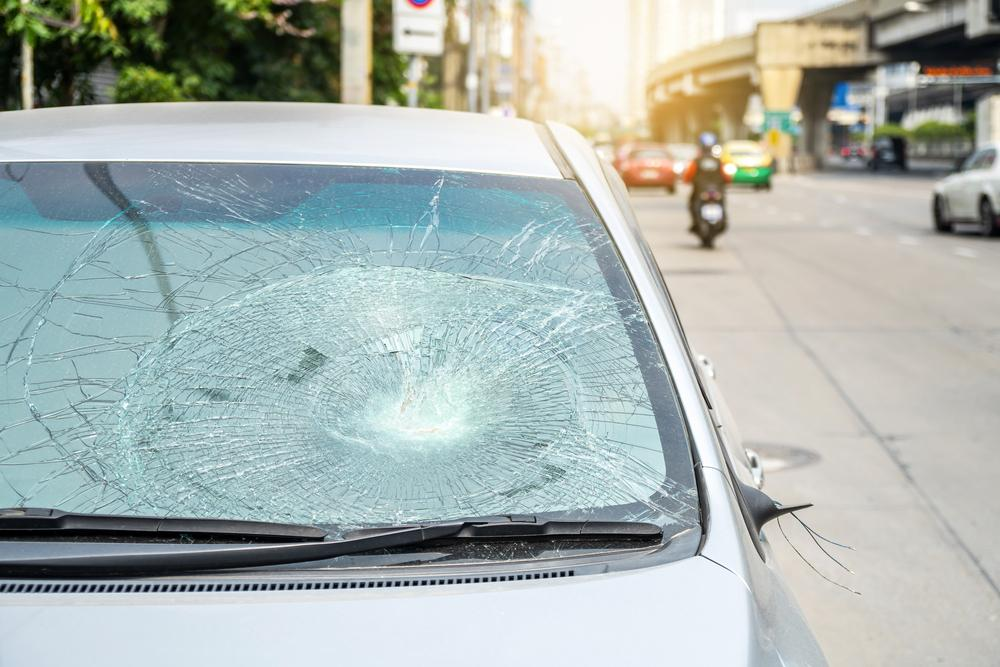glass shatter: (0, 161, 703, 572)
